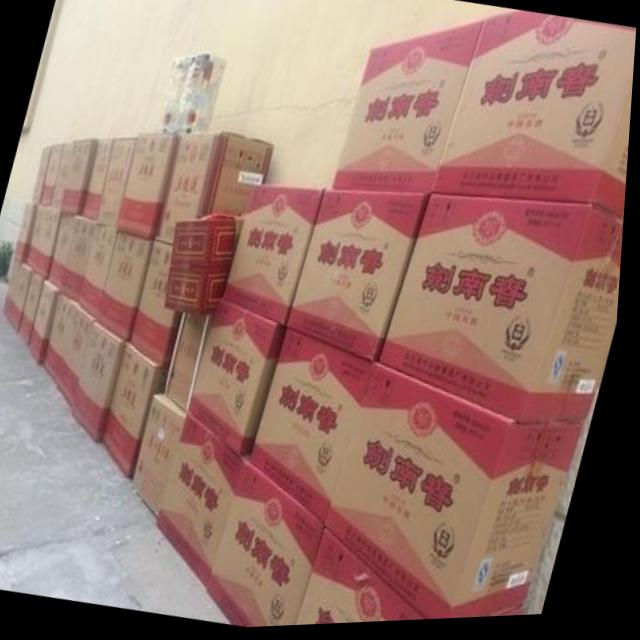box: (333, 368, 590, 624), (384, 197, 627, 426), (434, 15, 637, 225), (336, 23, 483, 196), (291, 193, 433, 367), (255, 330, 379, 528), (213, 461, 332, 630), (164, 415, 253, 592), (195, 301, 289, 460), (226, 187, 328, 329), (304, 530, 436, 628), (160, 133, 276, 242), (108, 347, 172, 481), (139, 395, 193, 522), (134, 243, 187, 370), (118, 136, 180, 241), (78, 324, 131, 441), (102, 234, 157, 346), (160, 55, 227, 134), (171, 316, 218, 416), (172, 214, 248, 269), (83, 226, 121, 321), (99, 141, 138, 229), (167, 268, 234, 317), (63, 216, 99, 302), (65, 315, 98, 403), (63, 140, 99, 216), (33, 283, 65, 365), (58, 303, 87, 389), (84, 141, 114, 222), (22, 272, 51, 347), (48, 296, 75, 375), (37, 206, 64, 278), (53, 215, 80, 287), (16, 203, 41, 263), (10, 267, 33, 329), (30, 206, 52, 270), (53, 147, 74, 211), (43, 143, 65, 204), (32, 148, 52, 204), (7, 258, 23, 317)
